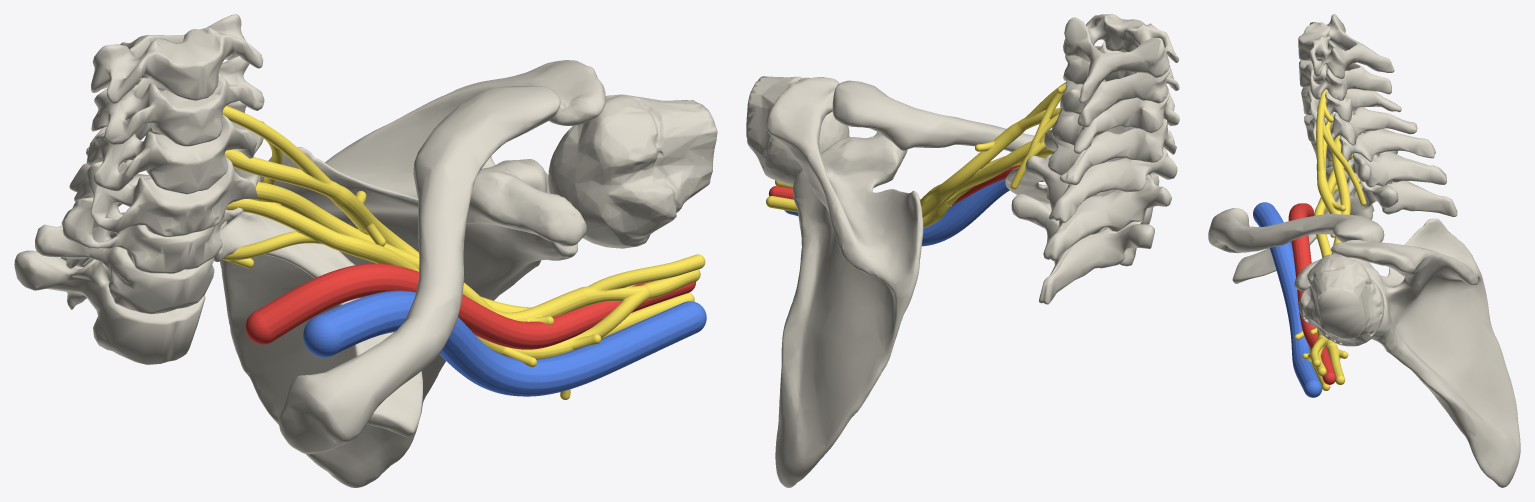
Rendered from brachial-plexus-v3.glb.
The picture shows the model from 3 angles, left to right: view 1: azimuth 30°, elevation 25°; view 2: azimuth 150°, elevation 25°; view 3: azimuth 270°, elevation 25°; orthographic projection. The views are drawn at different scales.
Visible parts, largest first — view 1: Scapula, Clavicle, Nerve, Humerus, Vein, Artery, Vertebra T2, Vertebra C3, Vertebra C5, Vertebra C4, Vertebra C6, Vertebra T1 (+2 smaller); view 2: Scapula, Clavicle, Nerve, Vertebra C3, Vertebra T1, Vertebra T2, Vertebra C7, Humerus, Vertebra C6, Vertebra C4, Vertebra C5, Vein (+2 smaller); view 3: Scapula, Humerus, Clavicle, Nerve, Vertebra C3, Vein, Vertebra T2, Vertebra T1, Vertebra C4, Vertebra C7, Vertebra C6, Vertebra C5 (+2 smaller).
Boxes of the visible parts, x1,y1,x2,y2 form: Scapula: (220, 60, 605, 487); Clavicle: (278, 86, 560, 454); Nerve: (222, 105, 705, 399); Humerus: (548, 94, 717, 248); Vein: (303, 290, 706, 396); Artery: (245, 263, 695, 349); Vertebra T2: (14, 220, 227, 364); Vertebra C3: (91, 14, 263, 103); Vertebra C5: (86, 101, 263, 194); Vertebra C4: (91, 56, 264, 146); Vertebra C6: (74, 147, 258, 237); Vertebra T1: (35, 209, 214, 314); Scapula: (766, 77, 923, 487); Clavicle: (832, 80, 1159, 224); Nerve: (766, 82, 1065, 228); Vertebra C3: (1063, 14, 1178, 103); Vertebra T1: (1025, 154, 1171, 260); Vertebra T2: (1011, 193, 1154, 304); Vertebra C7: (1044, 129, 1177, 222); Humerus: (746, 76, 849, 185); Vertebra C6: (1052, 106, 1176, 184); Vertebra C4: (1063, 42, 1179, 127); Vertebra C5: (1060, 79, 1179, 153); Vein: (784, 179, 1043, 246); Scapula: (1294, 218, 1520, 487); Humerus: (1299, 254, 1384, 346); Clavicle: (1208, 208, 1384, 253); Nerve: (1294, 89, 1366, 390); Vertebra C3: (1298, 14, 1394, 78); Vein: (1253, 202, 1322, 397); Vertebra T2: (1350, 150, 1457, 219); Vertebra T1: (1326, 132, 1446, 189); Vertebra C4: (1299, 40, 1391, 100); Vertebra C7: (1311, 113, 1435, 168); Vertebra C6: (1304, 107, 1417, 149); Vertebra C5: (1301, 65, 1401, 125).
Size of the model in its own units: 0.2314 by 0.2269 by 0.1759.
